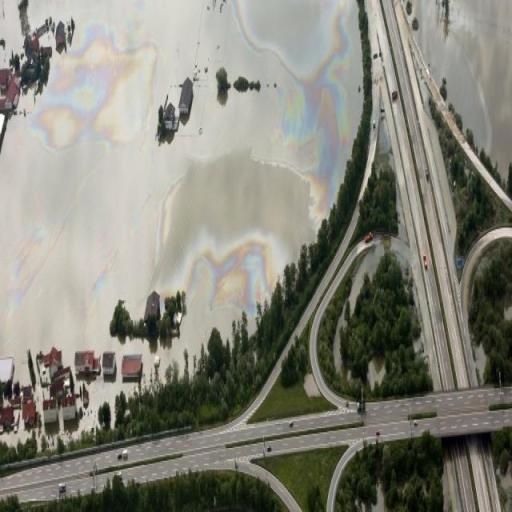flood: (0, 0, 362, 429), (410, 0, 512, 172), (0, 0, 23, 66), (40, 32, 54, 48)
house: (121, 342, 145, 386), (1, 60, 19, 114), (177, 77, 196, 116), (73, 348, 98, 376), (100, 348, 118, 382), (145, 290, 162, 323), (60, 394, 78, 422), (44, 347, 63, 372), (20, 400, 38, 426), (42, 400, 58, 422), (0, 406, 15, 428), (164, 103, 174, 130)
